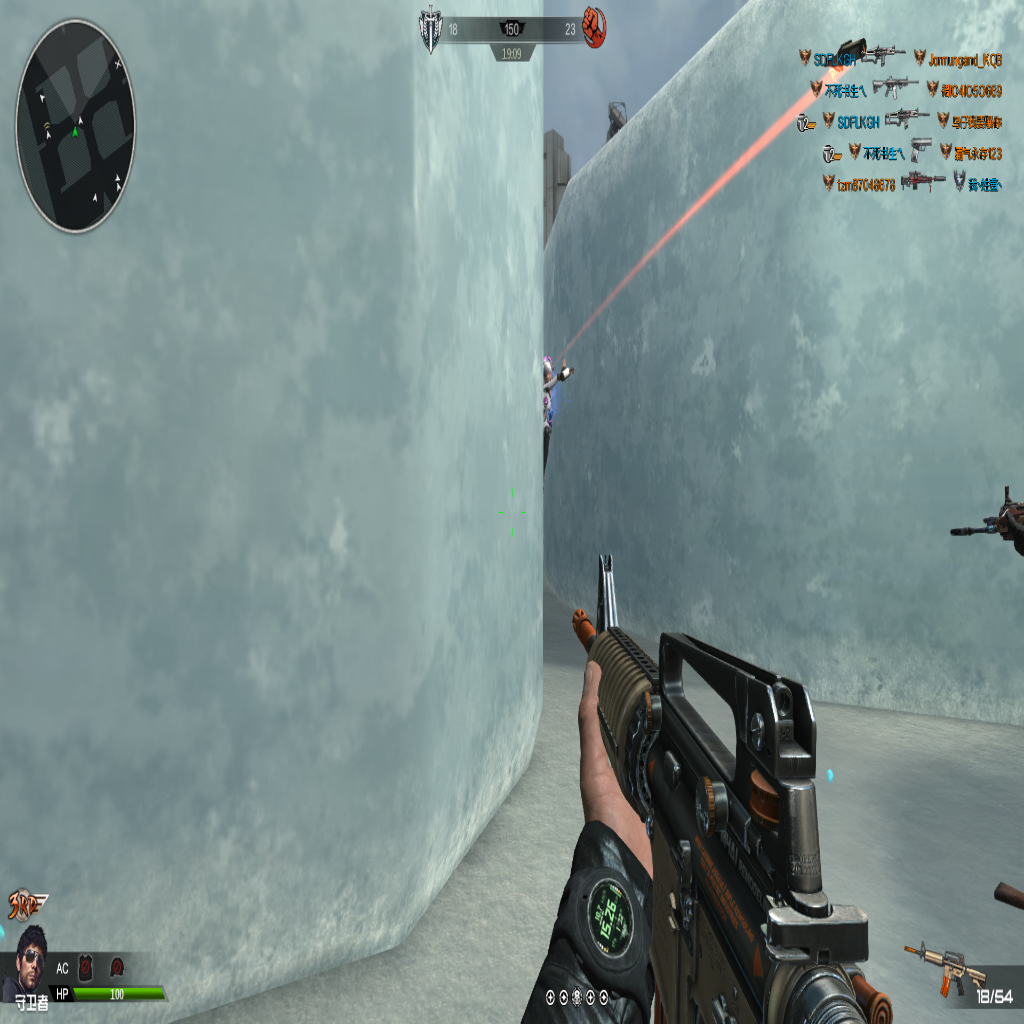tt: (541, 353, 570, 470)
